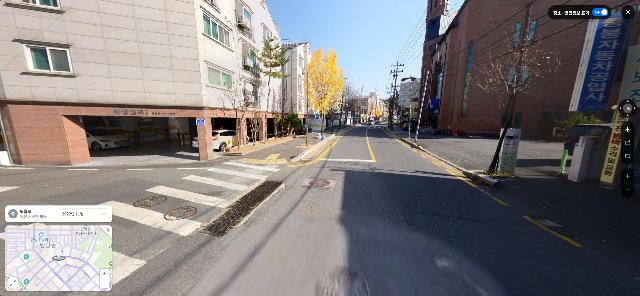ginkgo: (301, 45, 346, 146)
other: (467, 4, 560, 174)
